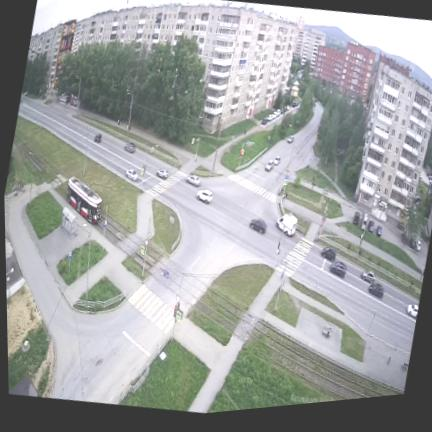bench: (323, 324, 332, 338), (402, 363, 408, 370)
busStop: (62, 207, 77, 237)
busStopSign: (103, 213, 107, 244), (68, 252, 72, 276)
car: (331, 261, 346, 278), (197, 189, 213, 204), (250, 219, 267, 233), (322, 247, 336, 262), (369, 283, 383, 298), (186, 175, 201, 186), (362, 271, 375, 283), (407, 304, 418, 318), (126, 169, 138, 181), (125, 143, 136, 153), (265, 160, 274, 171), (273, 155, 281, 167), (354, 212, 360, 225), (368, 220, 374, 232), (376, 226, 382, 237), (94, 134, 101, 143), (287, 136, 294, 143)
garbageBin: (387, 357, 391, 363)
pedestianCross: (129, 285, 173, 332), (229, 174, 277, 203), (280, 238, 314, 276), (148, 171, 186, 196)
pedestrianSign: (141, 240, 148, 277)
sign: (169, 217, 174, 228)
trafficLight: (273, 224, 286, 267), (172, 294, 182, 339), (239, 140, 255, 166), (140, 151, 148, 187), (192, 138, 201, 165), (282, 175, 289, 199), (321, 204, 328, 228)
trolley: (67, 177, 102, 223)
truck: (277, 214, 297, 236), (362, 211, 368, 230)
